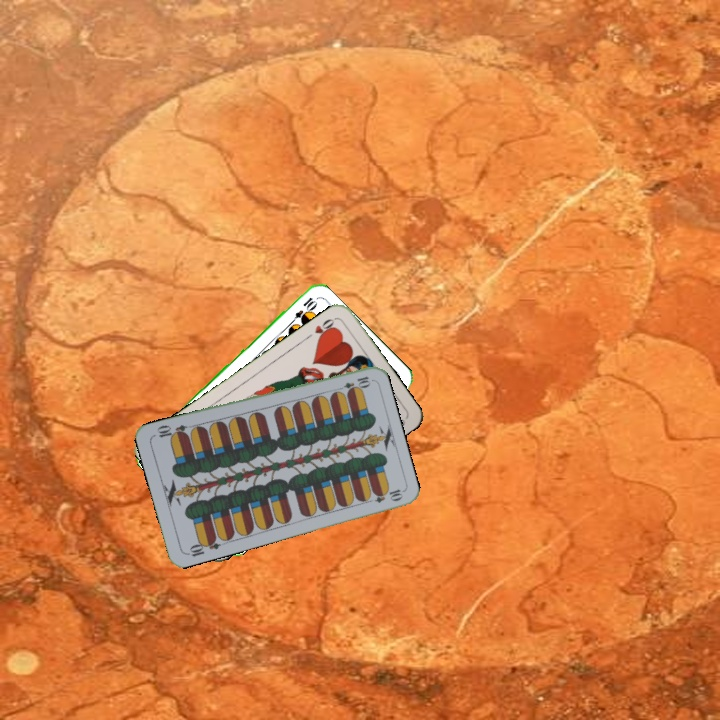E10: (285, 293, 318, 327), (183, 533, 223, 559), (333, 372, 373, 394)
HO: (302, 314, 338, 343)
